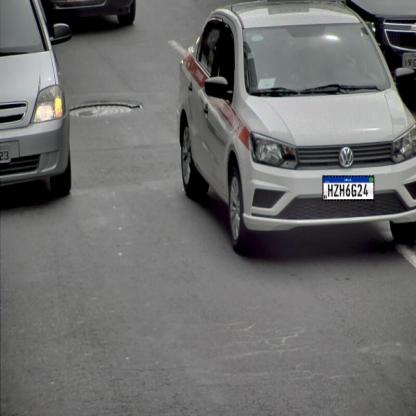PlacaM: (322, 175, 374, 201)
